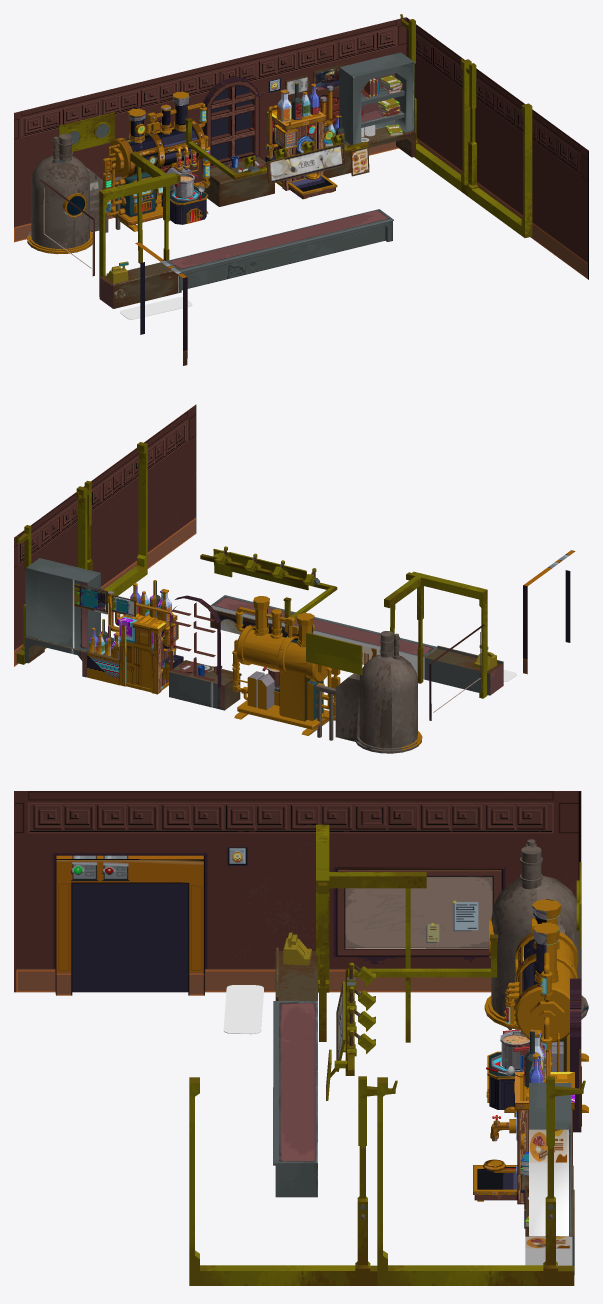
File: New Bar2.fbx
The picture shows the model from 3 angles, top to bottom: view 1: azimuth 30°, elevation 25°; view 2: azimuth 150°, elevation 25°; view 3: azimuth 270°, elevation 25°; orthographic projection. The views are drawn at different scales.
Parts seen in each view (by area): view 1: Wall, BarTable, Cooking Maching, Boiler, Cabinet, Drinks_machine, Counter_stand_1, Counter_stand_2, Counter_stand_3.001, Counter_stand_2.002, BigTable.001, Ceiling_installation_1 (+3 smaller); view 2: Wall, Cooking Maching, Boiler, Cabinet, BarTable, Drinks_machine, Counter_stand_3.001, Counter_stand_1, Counter_stand_2, BigTable.001, Ceiling_installation_1, Drinks_set (+2 smaller); view 3: Wall, BarTable, Cooking Maching, Counter_stand_2.002, Counter_stand_2, Cabinet, Boiler, Counter_stand_3.001, Drinks_machine, Counter_stand_1, carpet, Pot (+1 smaller).
Part boxes in pixels (x1,y1,x2,y2): Wall: [14, 17, 588, 365]; BarTable: [99, 209, 393, 308]; Cooking Maching: [103, 91, 210, 231]; Boiler: [27, 134, 122, 254]; Cabinet: [339, 52, 415, 157]; Drinks_machine: [265, 82, 337, 199]; Counter_stand_1: [185, 118, 369, 184]; Counter_stand_2: [461, 58, 532, 237]; Counter_stand_3.001: [99, 151, 180, 296]; Counter_stand_2.002: [400, 14, 471, 191]; BigTable.001: [203, 157, 274, 206]; Ceiling_installation_1: [58, 112, 114, 151]; Wall: [14, 404, 575, 720]; Cooking Maching: [232, 596, 340, 735]; Boiler: [315, 631, 422, 753]; Cabinet: [24, 558, 100, 677]; BarTable: [210, 595, 503, 695]; Drinks_machine: [108, 580, 183, 694]; Counter_stand_3.001: [384, 571, 487, 698]; Counter_stand_1: [200, 546, 337, 624]; Counter_stand_2: [76, 442, 147, 604]; BigTable.001: [169, 660, 241, 710]; Ceiling_installation_1: [306, 632, 362, 674]; Drinks_set: [87, 619, 119, 685]; Wall: [14, 791, 581, 1132]; BarTable: [273, 947, 317, 1197]; Cooking Maching: [486, 899, 588, 1112]; Counter_stand_2.002: [377, 1076, 585, 1285]; Counter_stand_2: [189, 1076, 397, 1285]; Cabinet: [525, 1083, 574, 1274]; Boiler: [484, 839, 588, 1029]; Counter_stand_3.001: [316, 824, 426, 1042]; Drinks_machine: [473, 1029, 574, 1204]; Counter_stand_1: [326, 934, 497, 1100]; carpet: [223, 985, 263, 1034]; Pot: [500, 1029, 529, 1069].
Size of the model in its own units: 1438 by 483 by 1174.
